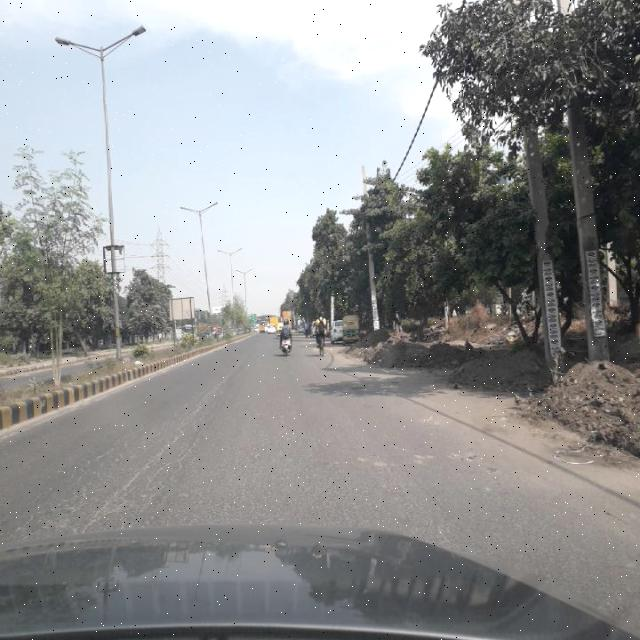D00: (90, 436, 180, 524), (180, 364, 240, 436)
D20: (32, 406, 212, 532)
